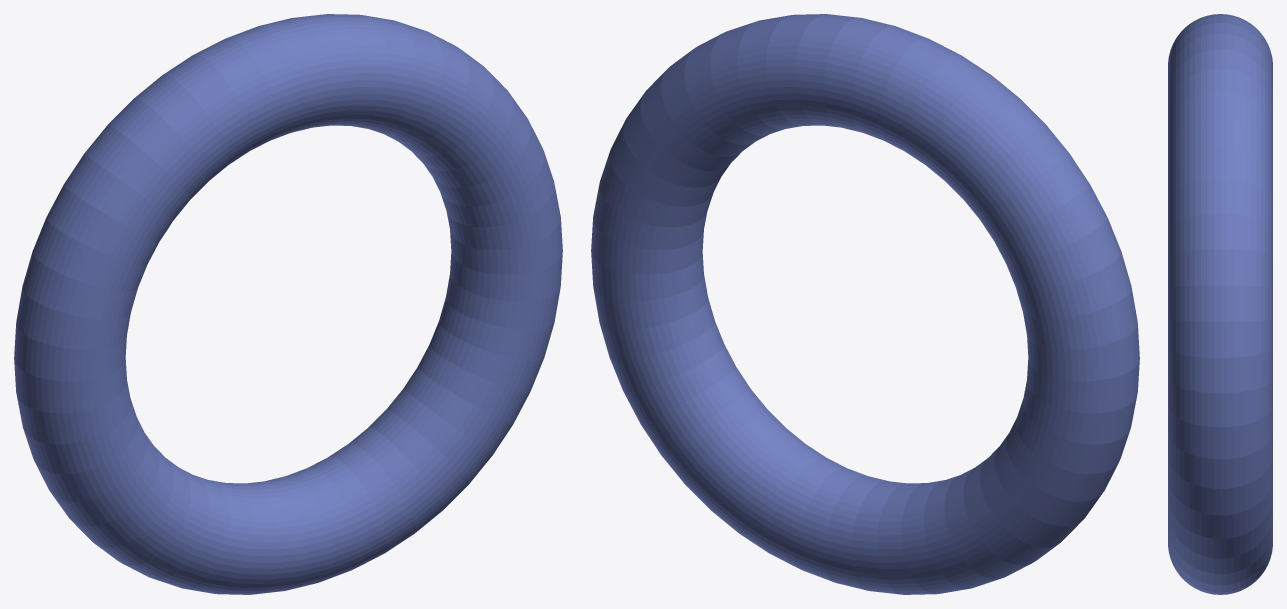
3 views of the same model, side by side, from view 1: azimuth 30°, elevation 25°; view 2: azimuth 150°, elevation 25°; view 3: azimuth 270°, elevation 25° (orthographic). The views are drawn at different scales.
Parts seen in each view (by area): view 1: world; view 2: world; view 3: world.
Part boxes in pixels (box(x1,y1,x2,y2)): world: box(14, 14, 562, 594); world: box(591, 14, 1139, 594); world: box(1168, 14, 1272, 594).
Size of the model in its own units: 15.47 by 15.44 by 2.79.
